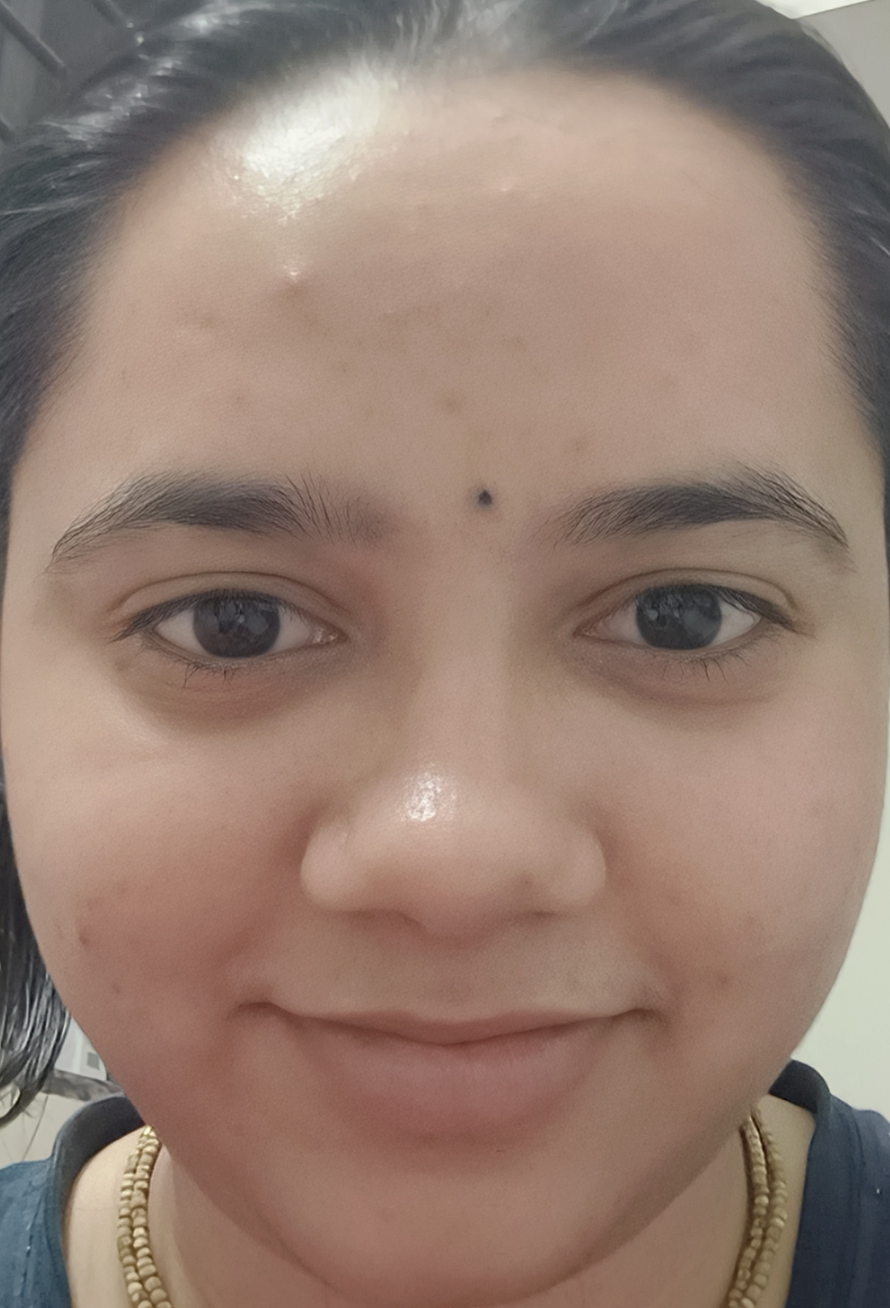pustule: (252, 247, 319, 314)
